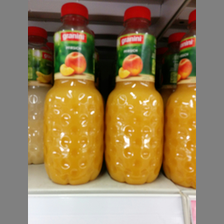juice: (44, 2, 106, 185), (105, 5, 165, 184)
